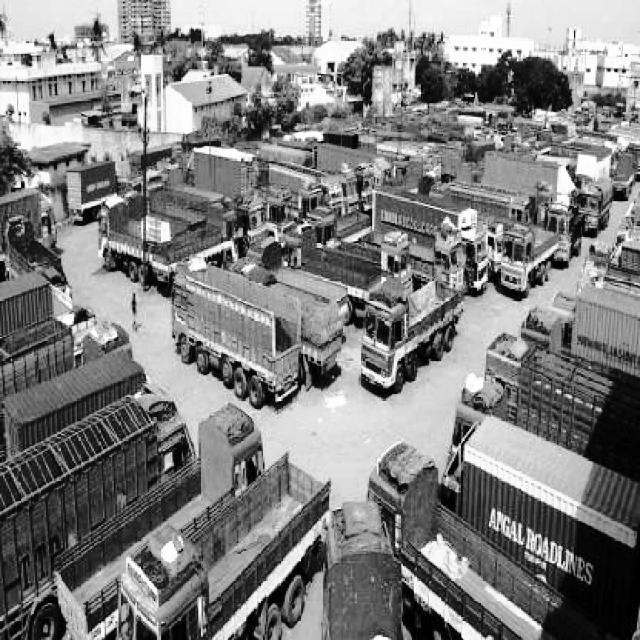HCV: (372, 447, 639, 640), (37, 458, 275, 611), (136, 482, 338, 639), (439, 412, 633, 570), (20, 383, 147, 585), (486, 310, 636, 472), (178, 272, 302, 400), (366, 174, 483, 288), (543, 254, 639, 376), (251, 242, 340, 371), (21, 357, 168, 428), (486, 144, 590, 242), (331, 503, 411, 615), (286, 218, 369, 311), (390, 215, 468, 298), (543, 126, 605, 222), (360, 304, 450, 368), (151, 228, 253, 284), (97, 198, 168, 267), (155, 176, 220, 247), (283, 137, 361, 195), (65, 166, 149, 213), (206, 158, 267, 202), (278, 165, 329, 217), (14, 197, 64, 249), (15, 275, 87, 294), (617, 140, 640, 198), (300, 183, 349, 200), (138, 405, 140, 406)
